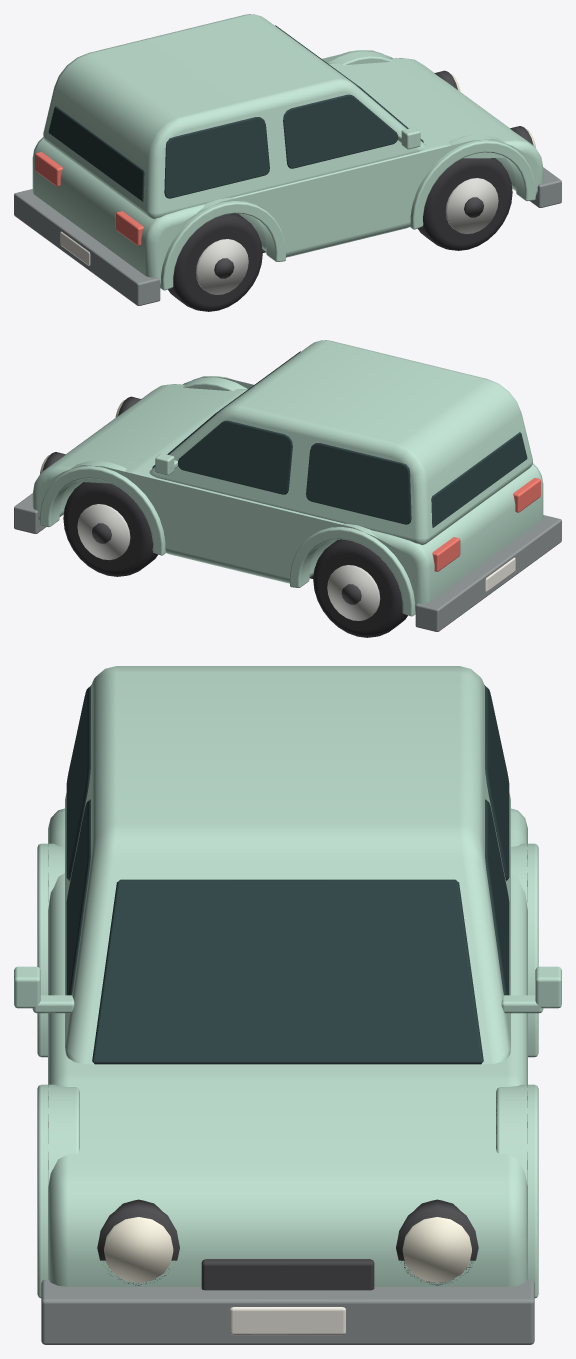
Rendered from hatch_mint.glb.
3 renders of one model, top to bottom at view 1: azimuth 30°, elevation 25°; view 2: azimuth 150°, elevation 25°; view 3: azimuth 270°, elevation 25°, orthographic. The views are drawn at different scales.
Visible parts, largest first — view 1: hatch_mint_body, hatch_mint_glass, hatch_mint_trim, hatch_mint_wheels, hatch_mint_round; view 2: hatch_mint_body, hatch_mint_glass, hatch_mint_trim, hatch_mint_wheels, hatch_mint_round; view 3: hatch_mint_body, hatch_mint_glass, hatch_mint_trim, hatch_mint_round.
Boxes of the visible parts, box(x1,y1,x2,y2) form: hatch_mint_body: box(32, 14, 543, 284); hatch_mint_glass: box(48, 25, 423, 201); hatch_mint_trim: box(14, 50, 561, 305); hatch_mint_wheels: box(168, 158, 512, 311); hatch_mint_round: box(195, 70, 535, 294); hatch_mint_body: box(32, 340, 543, 610); hatch_mint_glass: box(152, 351, 527, 527); hatch_mint_trim: box(14, 376, 561, 631); hatch_mint_wheels: box(63, 482, 407, 637); hatch_mint_round: box(40, 396, 380, 620); hatch_mint_body: box(48, 666, 527, 1286); hatch_mint_glass: box(66, 685, 509, 1064); hatch_mint_trim: box(14, 843, 561, 1344); hatch_mint_round: box(97, 1199, 478, 1285).
Size of the model in its own units: 3.66 by 1.57 by 2.06.
